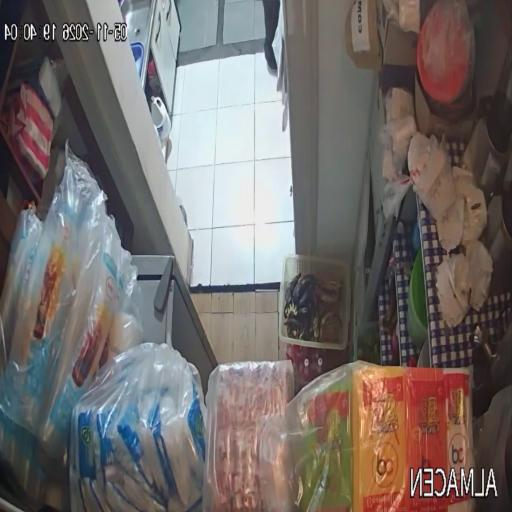Envase para platanos: (280, 256, 350, 350)
Productos culinarios: (0, 141, 143, 506), (259, 361, 473, 512), (70, 343, 206, 512), (204, 361, 293, 512)
Taper: (407, 250, 427, 349)
Taper2: (417, 340, 430, 367)
